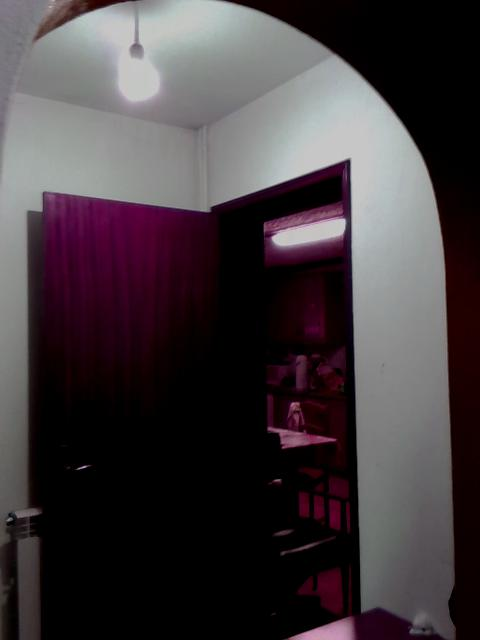open_door: (207, 155, 361, 639)
